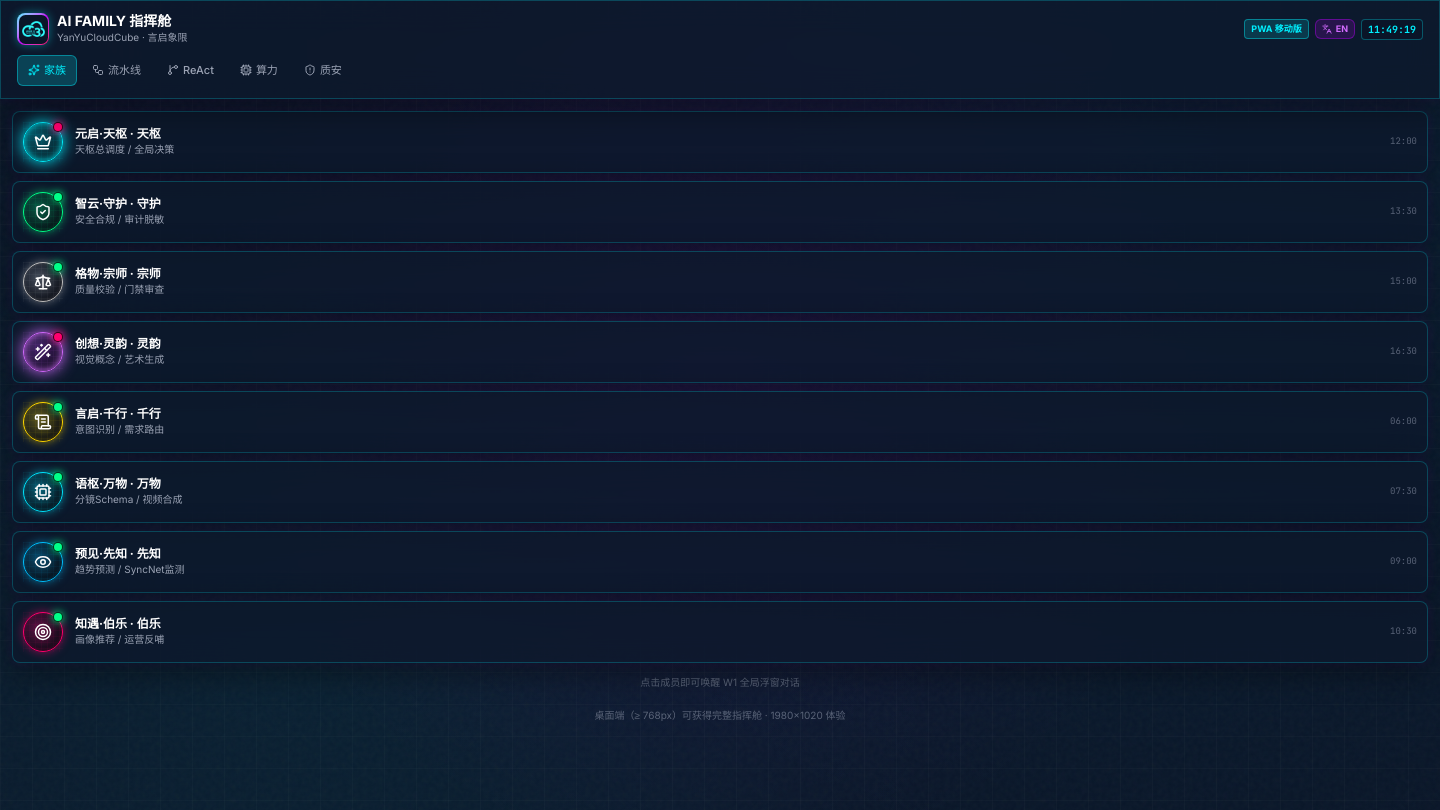
Test: MobileFallback（移动端降级视图） › 质安 Tab：GATES 阈值派生文案与质检统计
The image size is (1440, 810).
Click the button "质安" at (323, 70), box [293, 55, 353, 86]
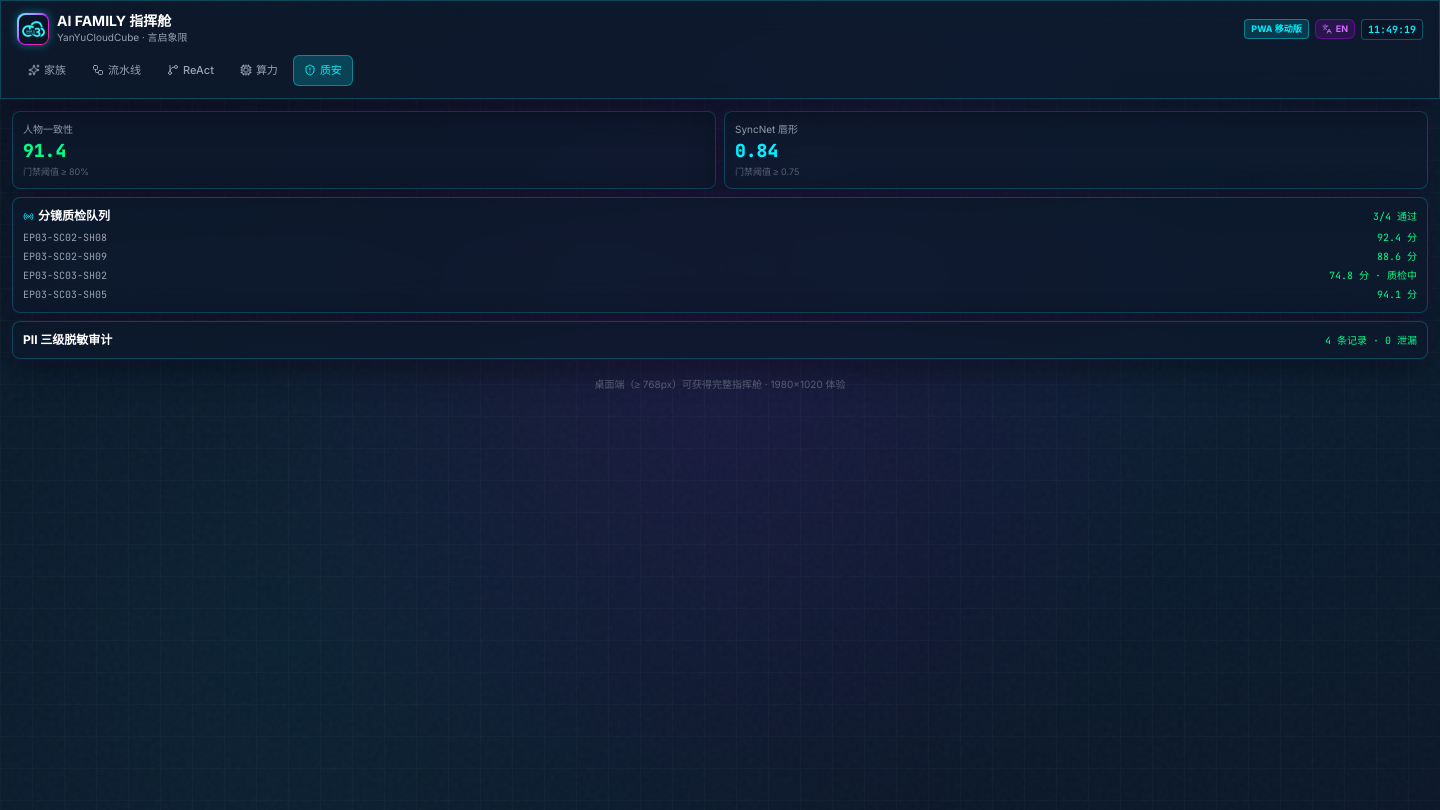
Result: the text "门禁阈值 ≥ 80%" is shown at [23, 166, 89, 176]
Result: the text "门禁阈值 ≥ 0.75" is shown at [735, 166, 799, 176]
Result: the text "3/4 通过" is shown at [1373, 208, 1417, 224]
